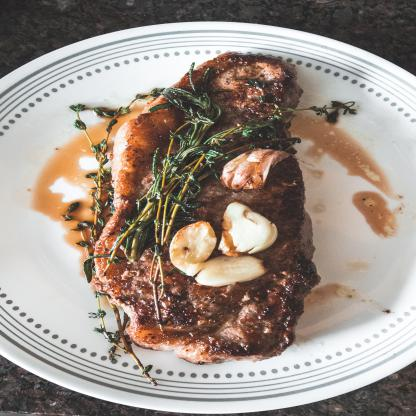Carne: (88, 48, 306, 362)
